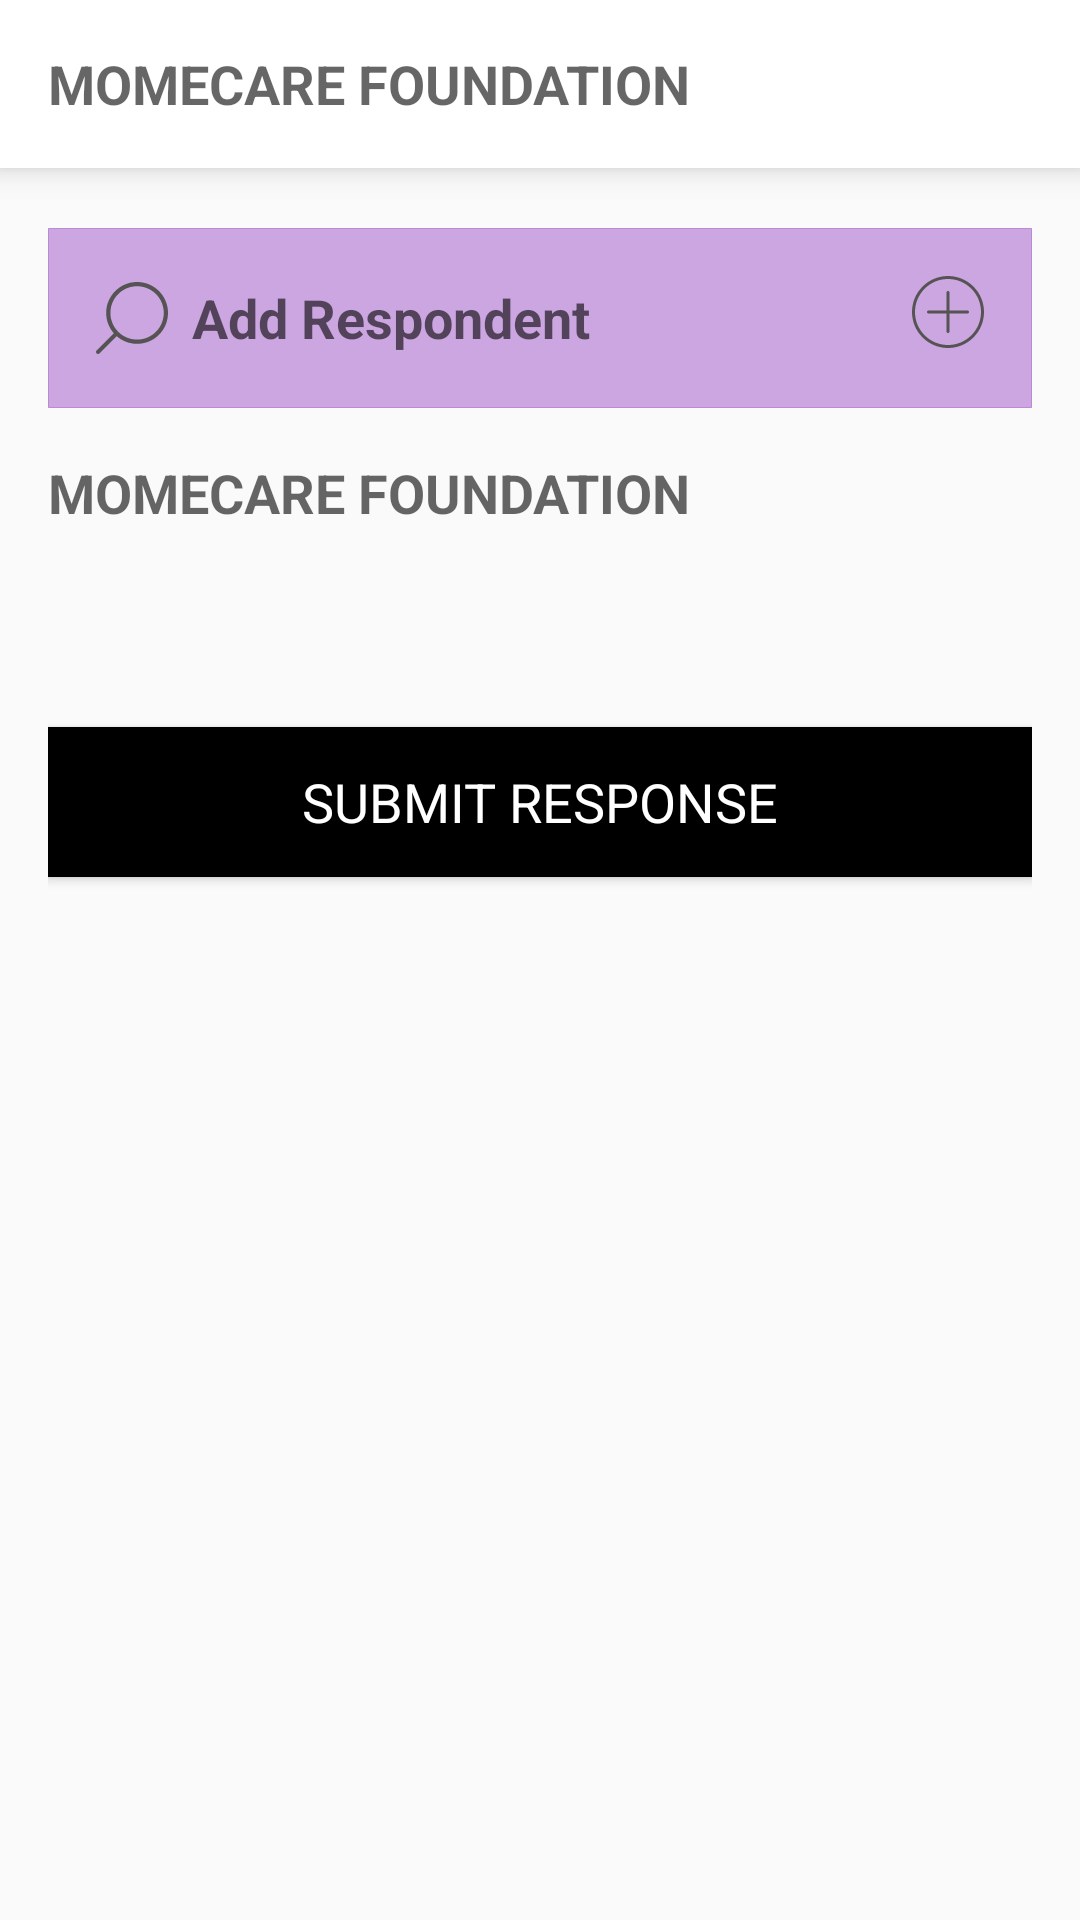

Named icons in this screenshot (1080×1920) and their centers, (x,y):
add circle: (948,312)
searching: (132,318)
